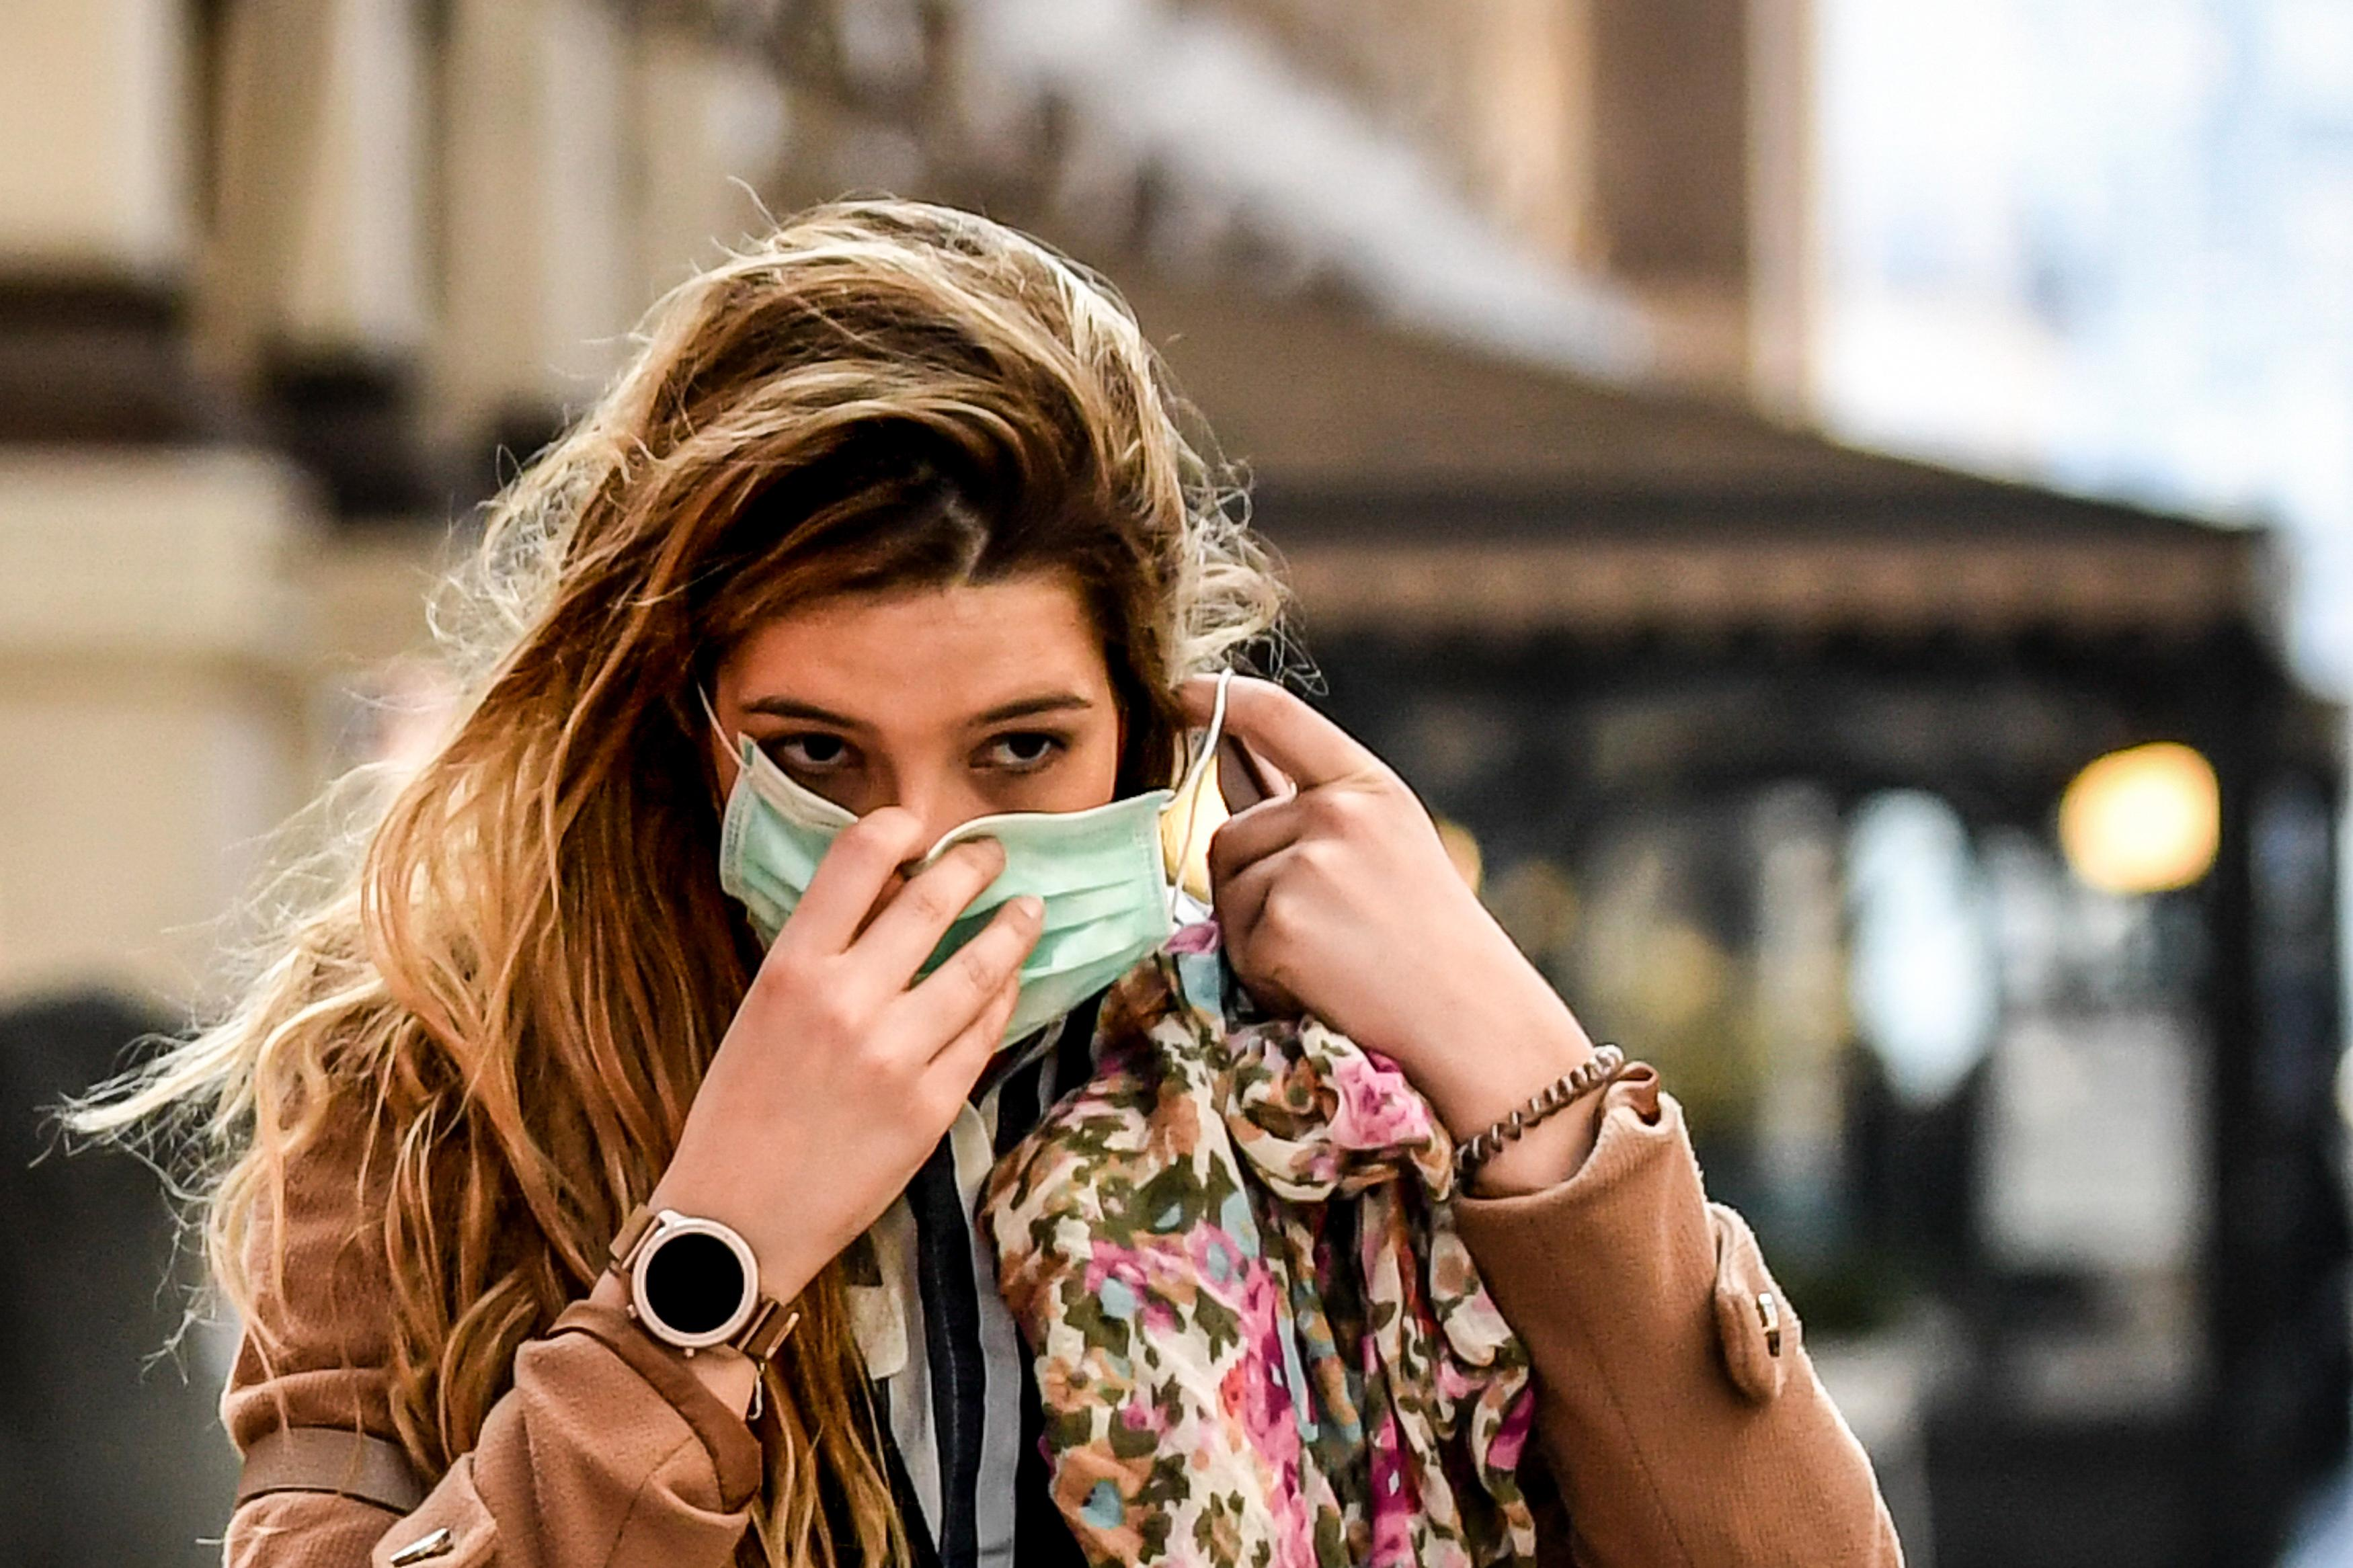with_mask: (687, 522, 1220, 1065)
